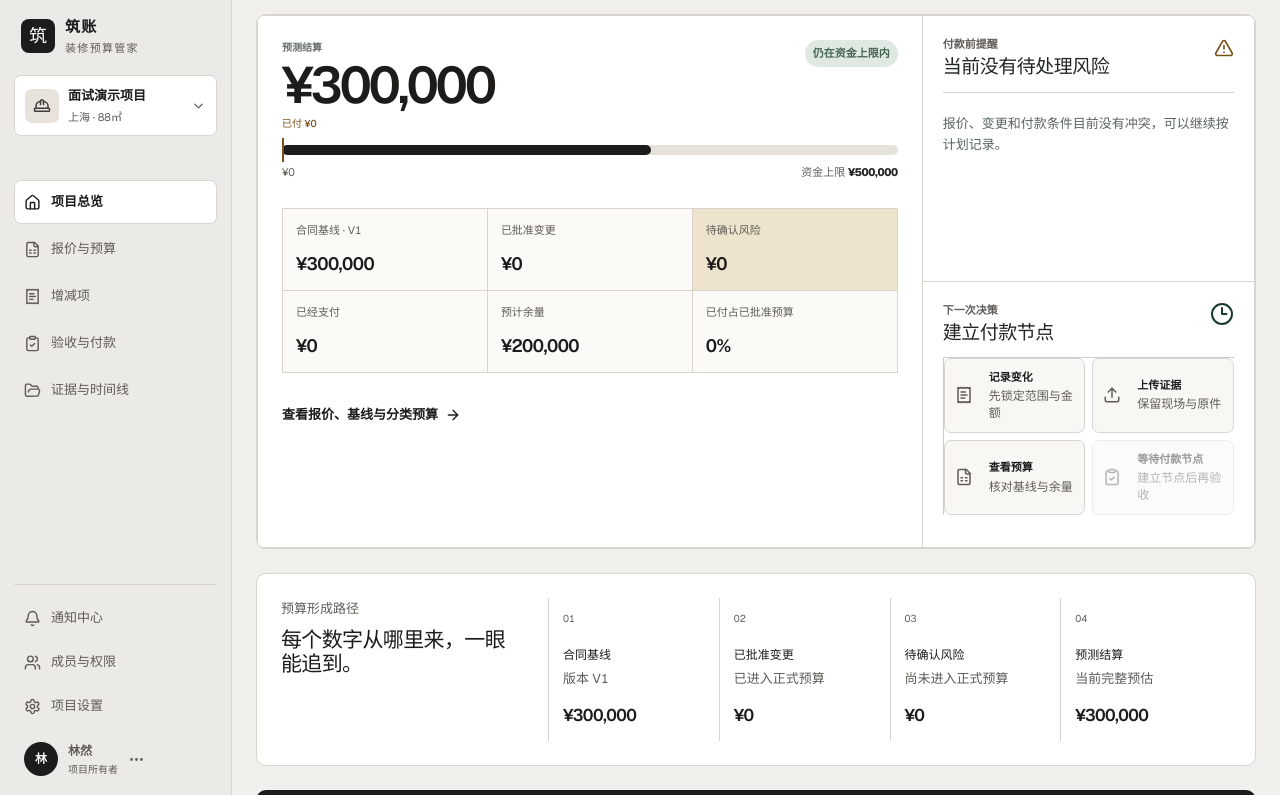
workspace upload capability › keeps evidence upload available for writable projects when capability is enabled
(page scrolled)
Click the button "上传证据 保留现场与原件" at (1163, 395), box [1092,358,1234,433]
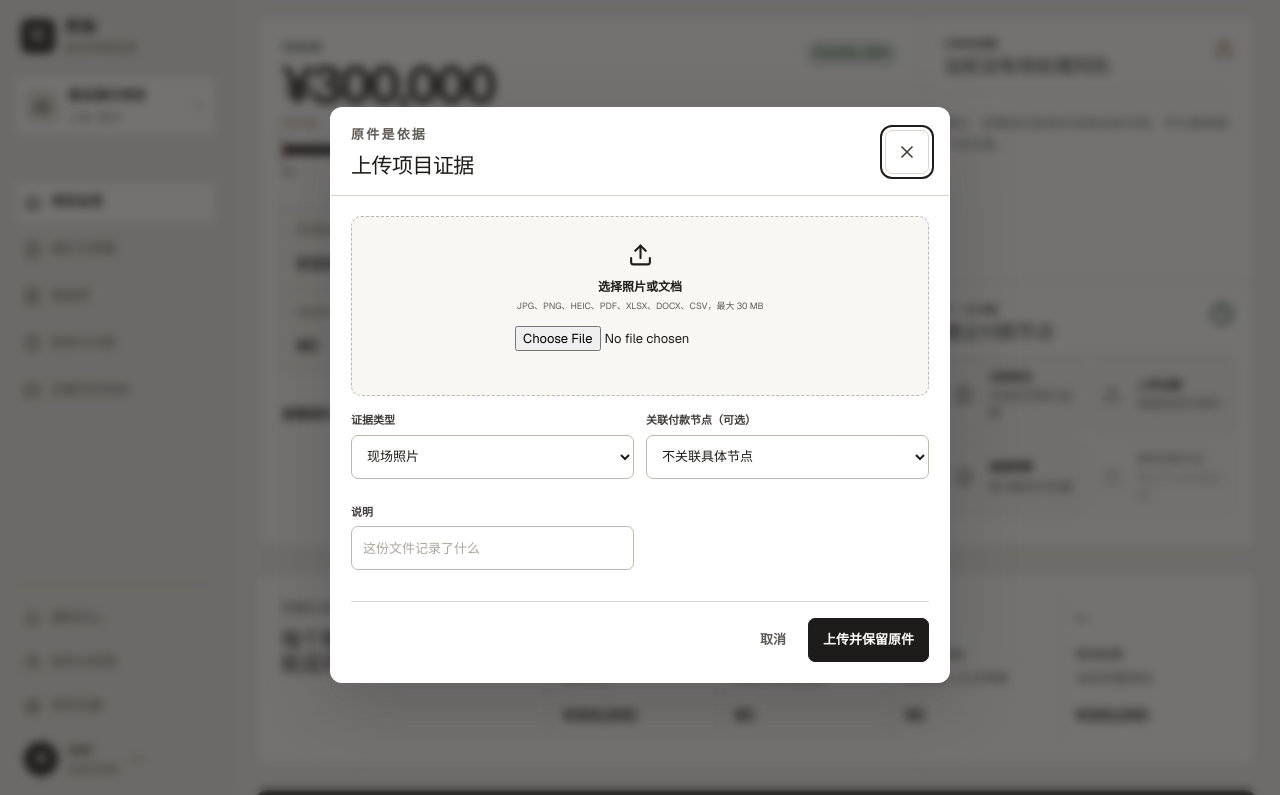
Now the dialog "上传项目证据" is shown, box [330,107,950,683]
